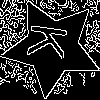K: (27, 22, 77, 62)
